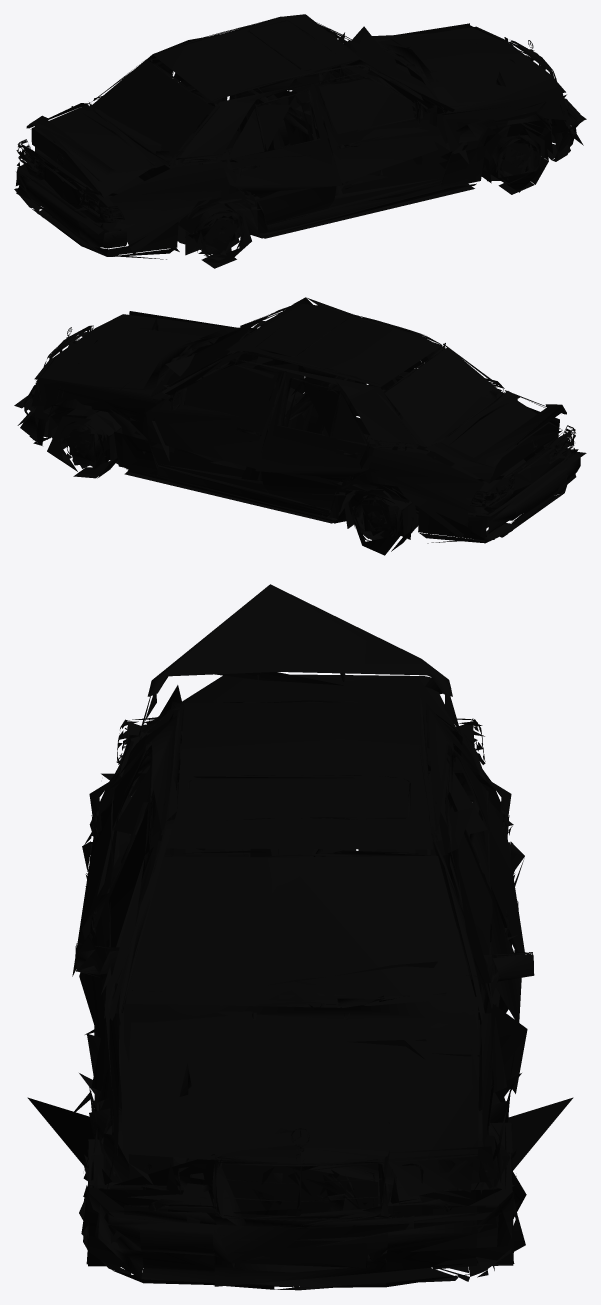
The picture shows the model from 3 angles, top to bottom: view 1: azimuth 30°, elevation 25°; view 2: azimuth 150°, elevation 25°; view 3: azimuth 270°, elevation 25°; orthographic projection. The views are drawn at different scales.
Visible parts, largest first — view 1: v_v190_lod1; view 2: v_v190_lod1; view 3: v_v190_lod1.
Boxes of the visible parts, x1,y1,x2,y2 form: v_v190_lod1: (14, 14, 586, 268); v_v190_lod1: (14, 297, 586, 555); v_v190_lod1: (27, 584, 573, 1290).
Bounding box in the file's own units: 4.54 × 1.33 × 2.14.
Materials: 1 (1 with a texture image).
